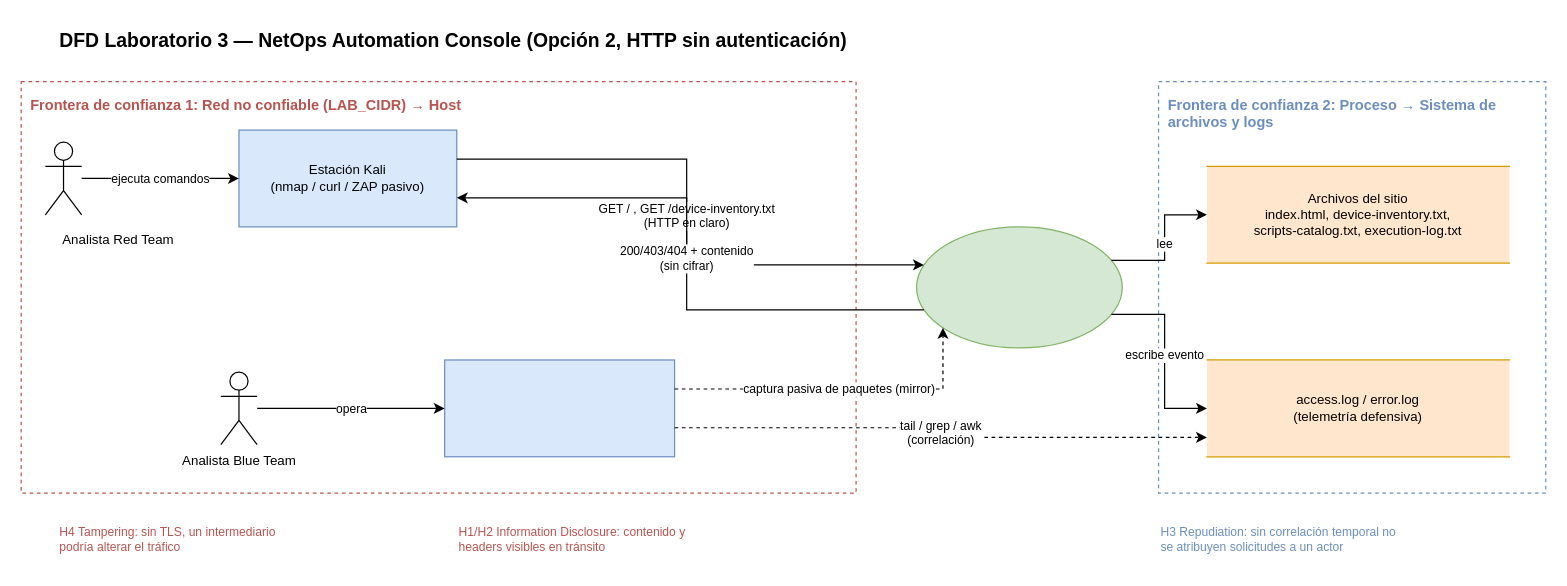
Image size: 1567x586. Some labels were removed from this diagram. The centre of each missing label's shape, as x and y in pixels:
Estación de monitoreo (tcpdump / Wireshark): [559,408]
Nginx :80 (sin autenticación, sin TLS): [1018,287]
